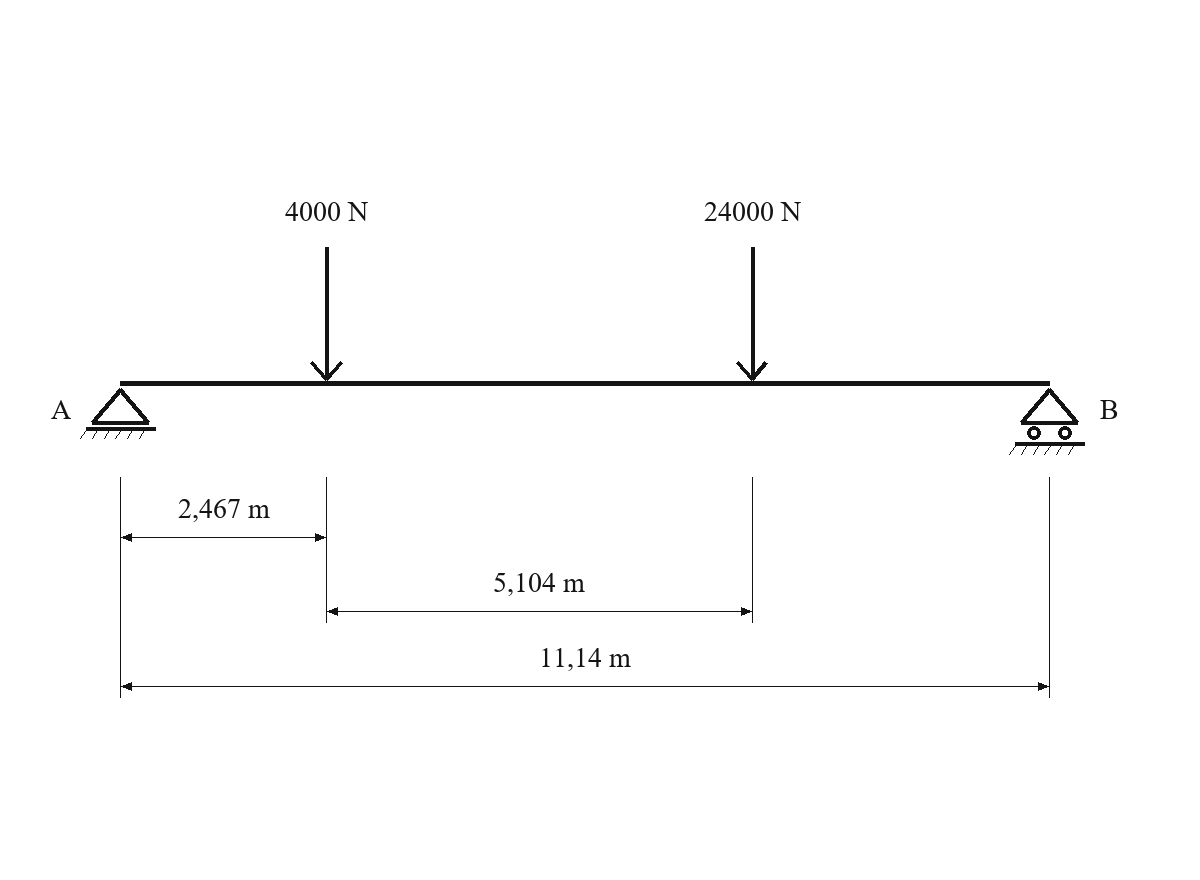pin_support: (80, 388, 156, 439)
point_load: (310, 247, 343, 381), (736, 247, 768, 381)
roller_support: (1009, 388, 1085, 455)
